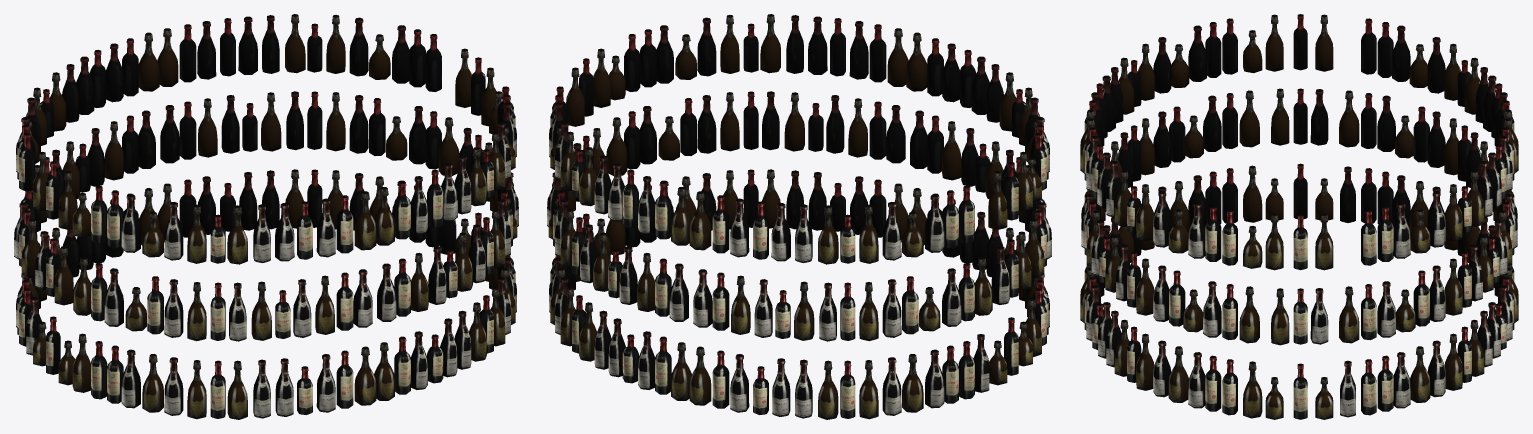
Rendered from bar_bottles.glb.
3 views of the same model, side by side, from view 1: azimuth 30°, elevation 25°; view 2: azimuth 150°, elevation 25°; view 3: azimuth 270°, elevation 25° (orthographic). The views are drawn at different scales.
Visible parts, largest first — view 1: Bar Bottles; view 2: Bar Bottles; view 3: Bar Bottles.
Boxes of the visible parts, x1,y1,x2,y2 form: Bar Bottles: [14, 14, 518, 419]; Bar Bottles: [547, 14, 1051, 419]; Bar Bottles: [1080, 14, 1518, 419].
Size of what is drawn, in the model's own units: 3.64 by 1.64 by 3.23.
Materials: 1 (1 with a texture image).
